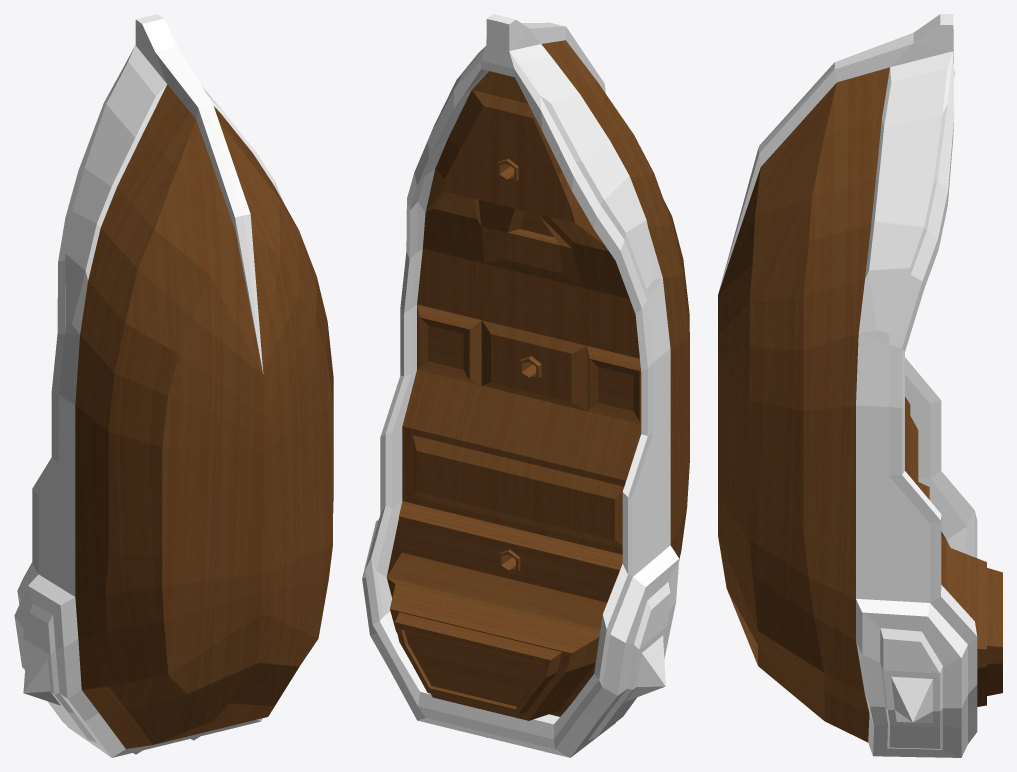
File: body_7.fbx
3 renders of one model, left to right at view 1: azimuth 30°, elevation 25°; view 2: azimuth 150°, elevation 25°; view 3: azimuth 270°, elevation 25°, orthographic. The views are drawn at different scales.
Parts seen in each view (by area): view 1: Cube.049; view 2: Cube.049; view 3: Cube.049.
Part boxes in pixels (bbox=[...]): Cube.049: bbox=[14, 14, 333, 757]; Cube.049: bbox=[362, 14, 689, 757]; Cube.049: bbox=[718, 14, 1002, 757].
Bounding box in the file's own units: 203 × 486 × 173.
